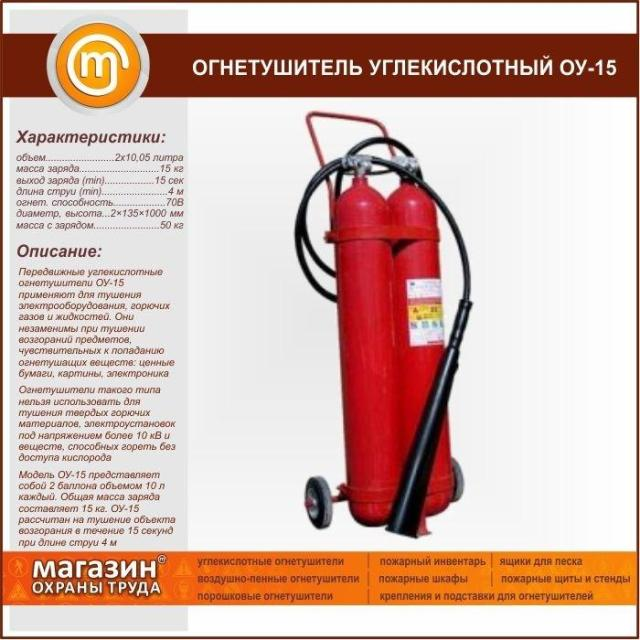fire_extinguisher: (290, 127, 474, 539), (322, 148, 409, 529)
